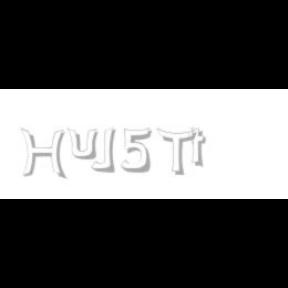5: (120, 128, 152, 174)
H: (20, 128, 66, 180)
J: (90, 128, 116, 172)
T: (156, 128, 196, 176)
t: (188, 128, 210, 168)
u: (66, 128, 102, 160)
